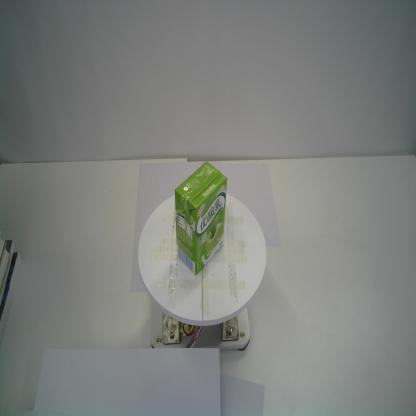Milk: (174, 161, 228, 276)
